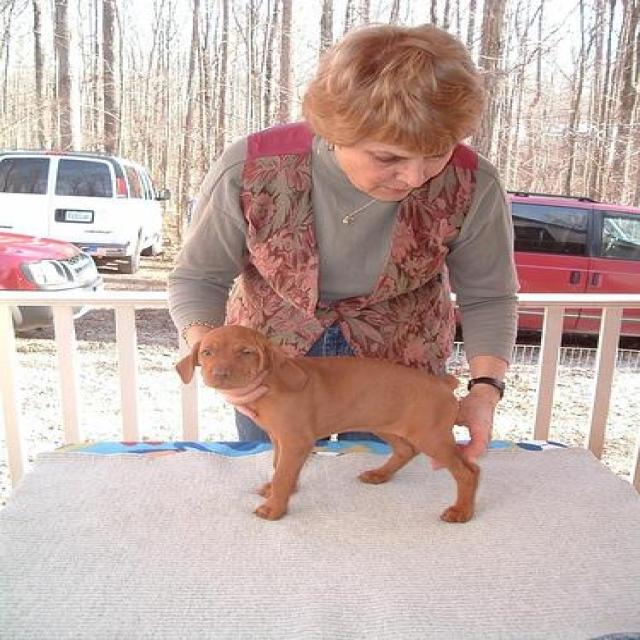vizsla: (174, 326, 481, 526)
